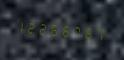one: (17, 16, 27, 36)
seven: (72, 20, 82, 41), (94, 22, 104, 43)
six: (61, 19, 71, 40), (83, 21, 93, 42), (50, 19, 60, 39)
two: (28, 17, 38, 37), (39, 18, 49, 38)
